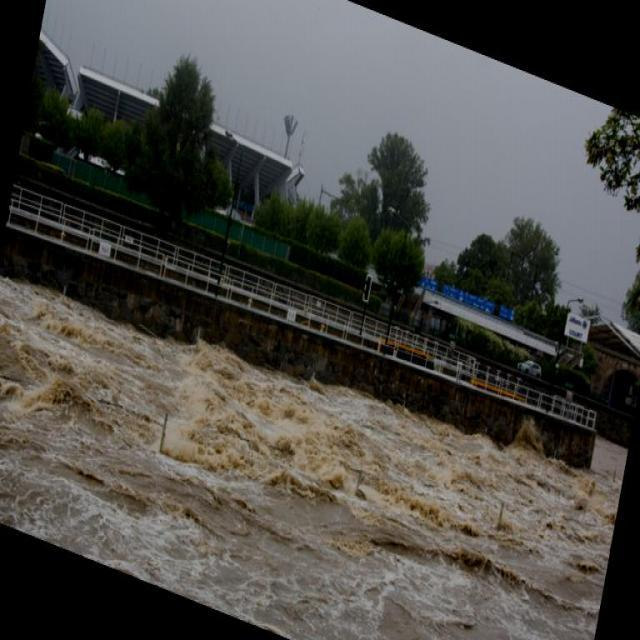flood: (0, 232, 623, 638)
